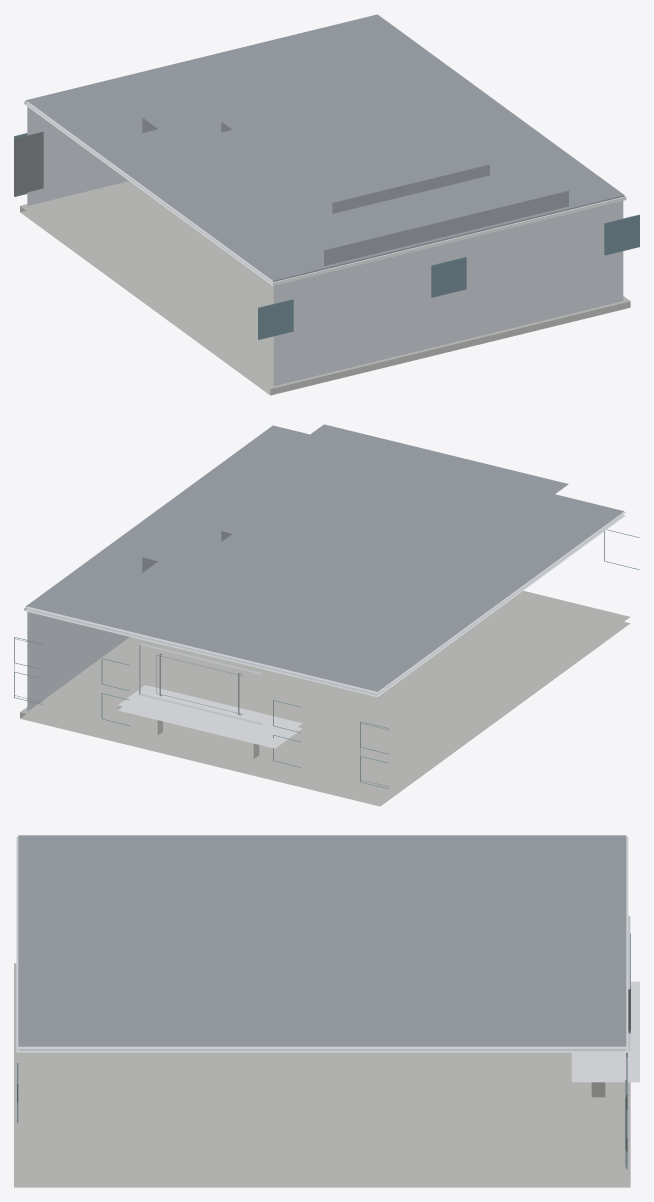
3 views of the same model, one above another, from view 1: azimuth 30°, elevation 25°; view 2: azimuth 150°, elevation 25°; view 3: azimuth 270°, elevation 25° (orthographic). The views are drawn at different scales.
Visible parts, largest first — view 1: 北区体育馆 路 North 3 roof, 北区体育馆 路 North 3 panel, 北区体育馆 路 North 3 concrete, 北区体育馆 路 North 3 glass, 北区体育馆 路 North 3 trim, 北区体育馆 路 North 3 frame; view 2: 北区体育馆 路 North 3 roof, 北区体育馆 路 North 3 concrete, 北区体育馆 路 North 3 trim, 北区体育馆 路 North 3 panel, 北区体育馆 路 North 3 glass; view 3: 北区体育馆 路 North 3 roof, 北区体育馆 路 North 3 concrete, 北区体育馆 路 North 3 trim, 北区体育馆 路 North 3 panel.
Boxes of the visible parts, x1=… form: 北区体育馆 路 North 3 roof: x1=26, y1=14, x2=624, y2=281; 北区体育馆 路 North 3 panel: x1=27, y1=104, x2=623, y2=386; 北区体育馆 路 North 3 concrete: x1=20, y1=181, x2=630, y2=395; 北区体育馆 路 North 3 glass: x1=14, y1=133, x2=639, y2=339; 北区体育馆 路 North 3 trim: x1=24, y1=101, x2=626, y2=285; 北区体育馆 路 North 3 frame: x1=14, y1=131, x2=43, y2=195; 北区体育馆 路 North 3 roof: x1=26, y1=424, x2=624, y2=693; 北区体育馆 路 North 3 concrete: x1=20, y1=591, x2=630, y2=806; 北区体育馆 路 North 3 trim: x1=24, y1=512, x2=625, y2=748; 北区体育馆 路 North 3 panel: x1=27, y1=515, x2=622, y2=724; 北区体育馆 路 North 3 glass: x1=14, y1=529, x2=639, y2=788; 北区体育馆 路 North 3 roof: x1=18, y1=835, x2=626, y2=1049; 北区体育馆 路 North 3 concrete: x1=14, y1=963, x2=630, y2=1187; 北区体育馆 路 North 3 trim: x1=16, y1=836, x2=639, y2=1082; 北区体育馆 路 North 3 panel: x1=19, y1=915, x2=630, y2=1051.
Bounding box in the file's own units: 43.6 × 15.2 × 50.35.
